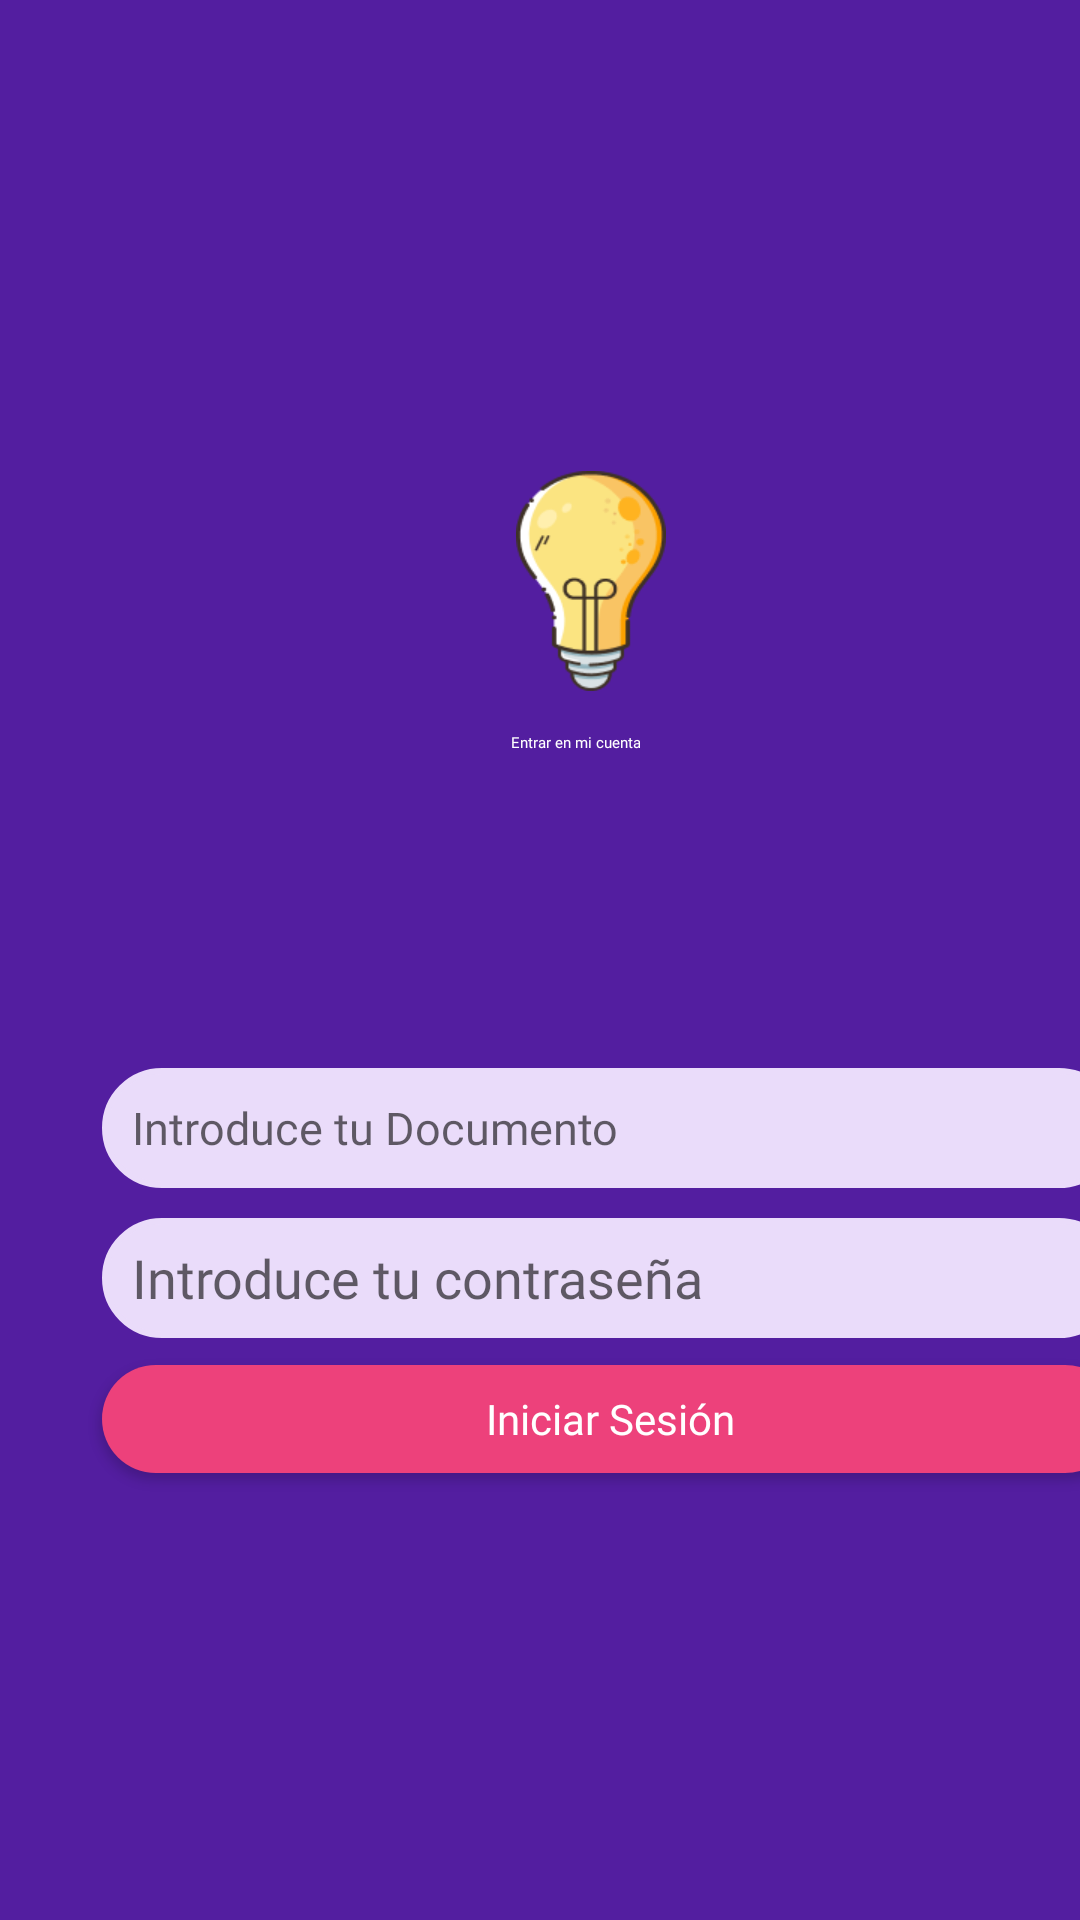

Icon bounding boxes for this 1080 × 1920 phone screenshot, format (x1, y1, x2, y2):
bombillo: (516, 471, 666, 691)
